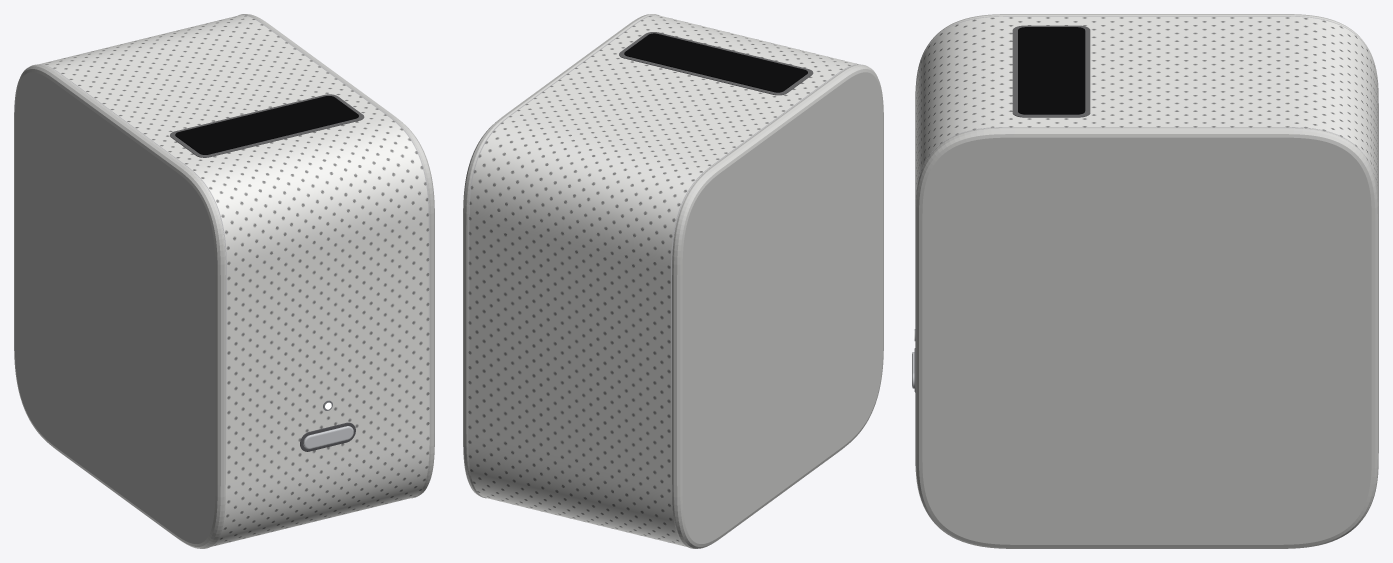
The model's file is lspx-p1.glb.
3 views of the same model, side by side, from view 1: azimuth 30°, elevation 25°; view 2: azimuth 150°, elevation 25°; view 3: azimuth 270°, elevation 25° (orthographic). The views are drawn at different scales.
Parts seen in each view (by area): view 1: band, side-panel-left, window-glass, side-panel-right, window-bezel, power-button, seam-line-right, seam-line-left; view 2: band, side-panel-left, window-glass, side-panel-right, window-bezel, seam-line-right, seam-line-left; view 3: side-panel-right, band, window-glass, window-bezel, side-panel-left.
Part boxes in pixels (left/top/right/bottom): band: left=38, top=15, right=429, bottom=546; side-panel-left: left=14, top=64, right=225, bottom=548; window-glass: left=175, top=96, right=358, bottom=154; side-panel-right: left=238, top=14, right=434, bottom=498; window-bezel: left=170, top=94, right=364, bottom=157; power-button: left=303, top=426, right=353, bottom=449; seam-line-right: left=242, top=14, right=429, bottom=371; seam-line-left: left=37, top=64, right=226, bottom=441; band: left=468, top=15, right=859, bottom=546; side-panel-left: left=672, top=64, right=883, bottom=548; window-glass: left=624, top=33, right=807, bottom=92; side-panel-right: left=463, top=14, right=659, bottom=498; window-bezel: left=619, top=32, right=813, bottom=95; seam-line-right: left=468, top=14, right=655, bottom=371; seam-line-left: left=671, top=64, right=860, bottom=441; side-panel-right: left=915, top=127, right=1378, bottom=548; band: left=916, top=16, right=1378, bottom=195; window-glass: left=1018, top=27, right=1085, bottom=114; window-bezel: left=1012, top=25, right=1090, bottom=117; side-panel-left: left=915, top=14, right=1378, bottom=216.
Bounding box in the file's own units: 0.08 × 0.1313 × 0.1319.
Materials: 9 (1 with a texture image).
